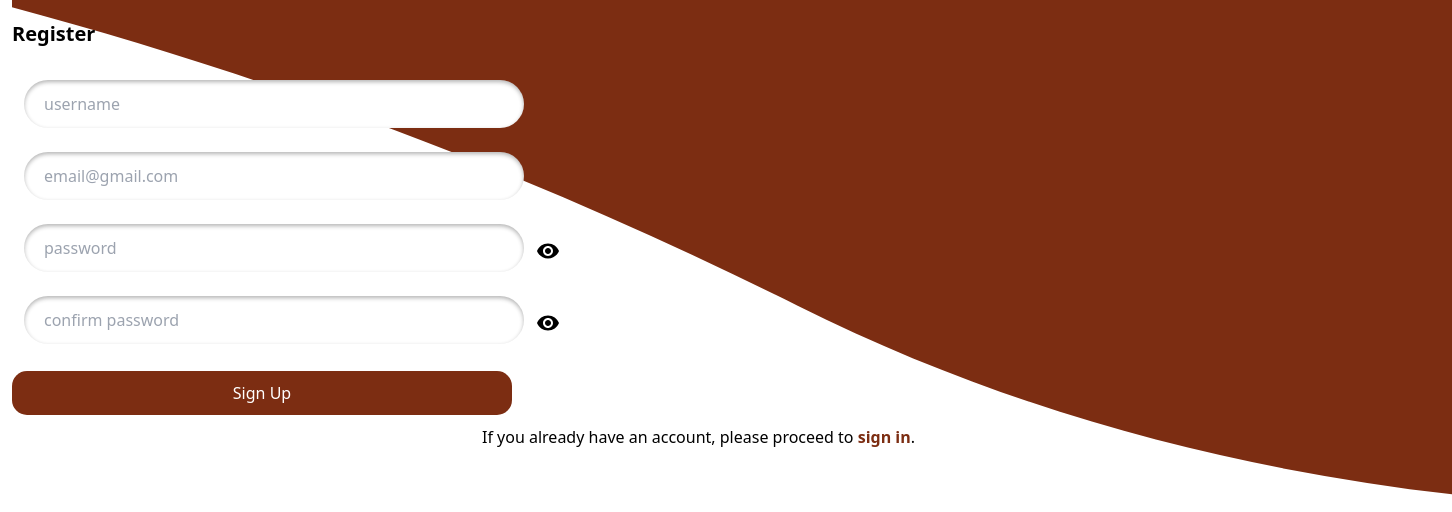
Signup page › can render error message if email address is not valid
The width and height of the screenshot is (1452, 512).
Note: get email input and type in invalid email address
Type "test.com" into the field with placeholder "email@gmail.com" at point(274, 176), box top-left (24, 152), bottom-right (524, 200)
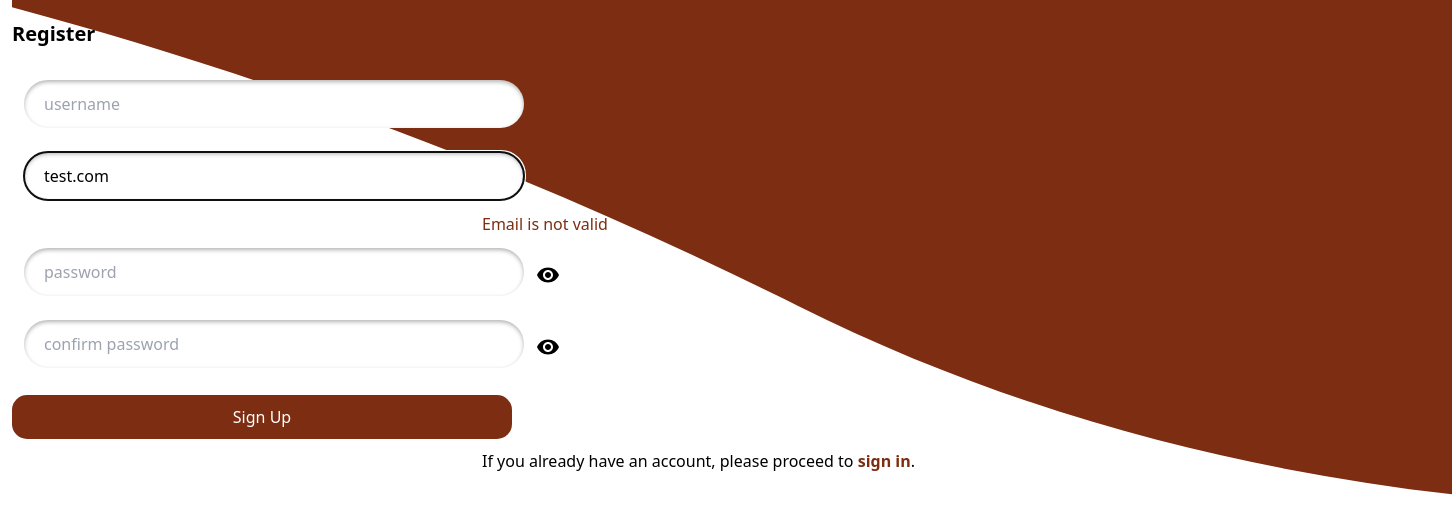
Expected: the text "Email is not valid" is shown, top-left (482, 213), bottom-right (608, 235)
